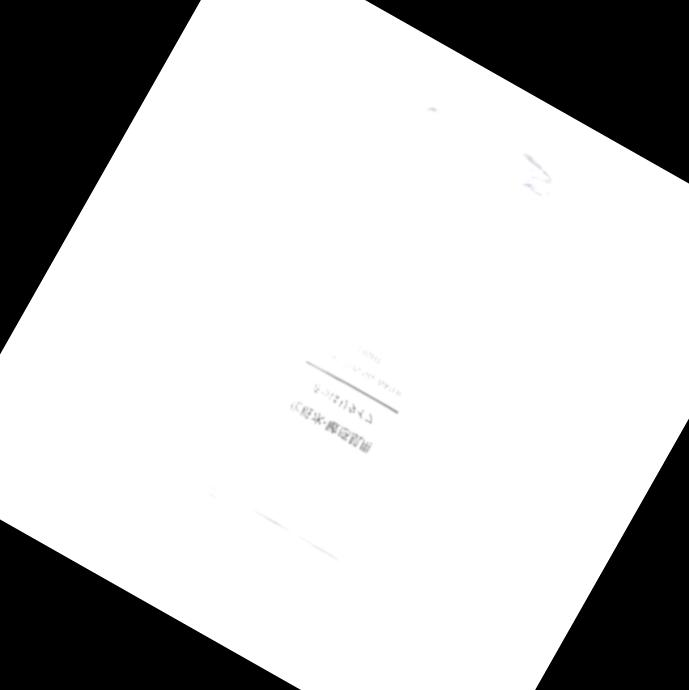cosmetic: (164, 96, 563, 629)
